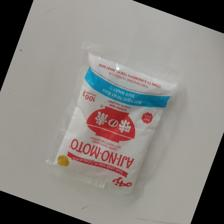Ajinomoto: (41, 51, 182, 200)
